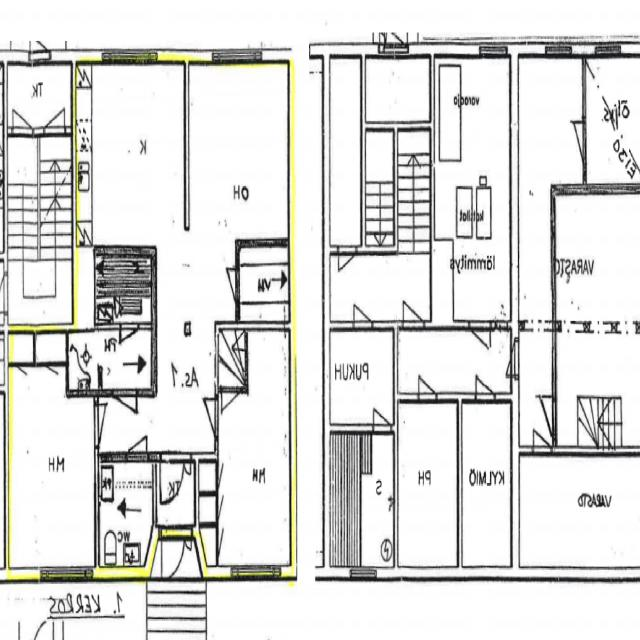door: (162, 526, 185, 582), (161, 452, 184, 505), (114, 389, 137, 440), (95, 404, 121, 446), (196, 400, 219, 436), (129, 418, 147, 460), (121, 323, 139, 363), (219, 269, 240, 301), (223, 386, 239, 424), (184, 526, 192, 554), (184, 452, 191, 473)
